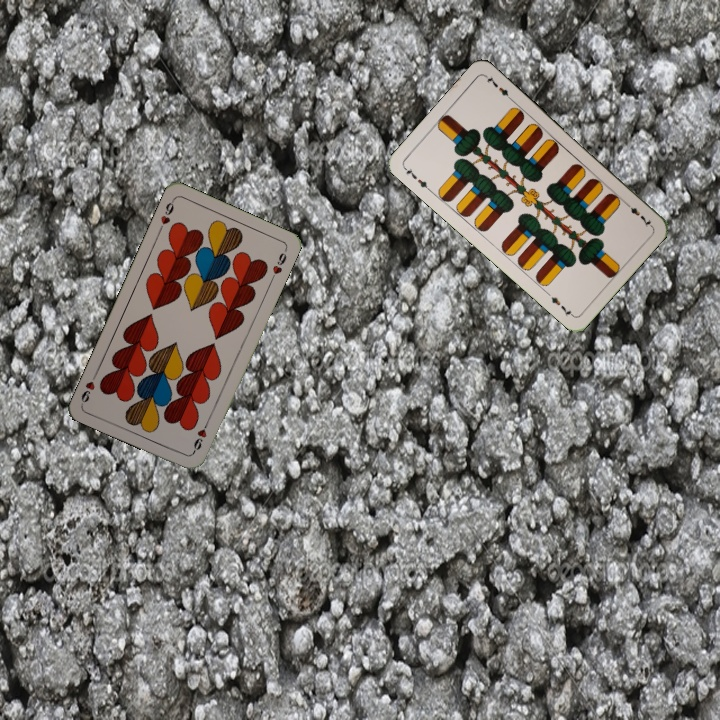E7: (621, 198, 654, 230), (400, 163, 433, 194)
H9: (155, 195, 177, 234), (189, 417, 211, 456)
